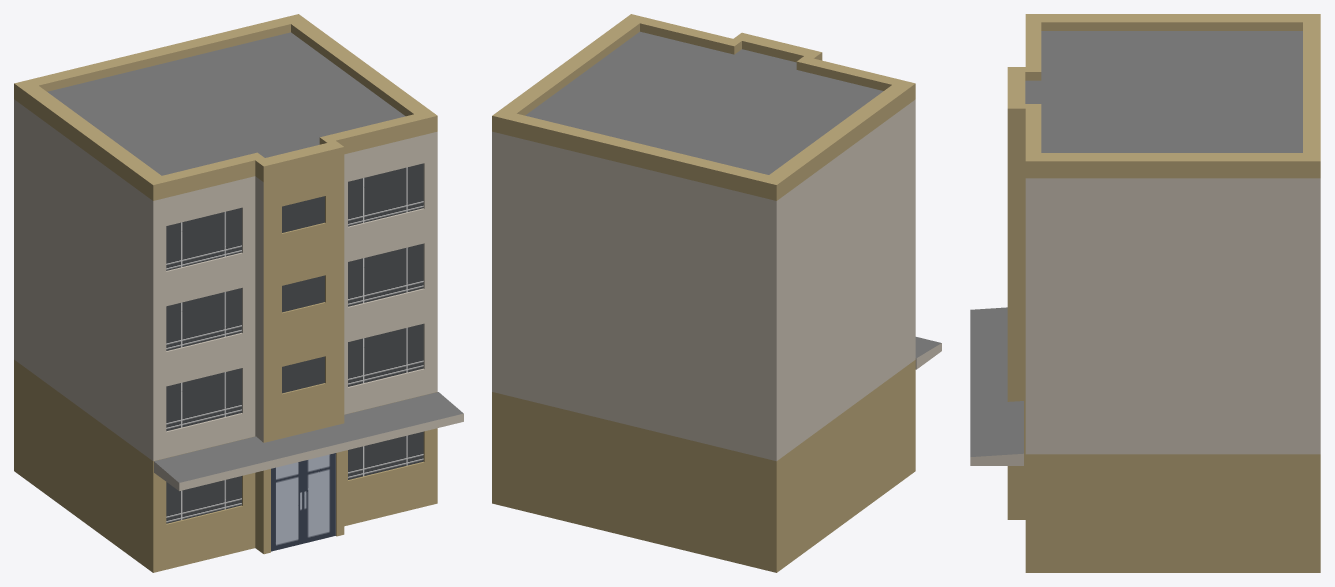
The model's file is building-sky-small-color02.glb.
The picture shows the model from 3 angles, left to right: view 1: azimuth 30°, elevation 25°; view 2: azimuth 150°, elevation 25°; view 3: azimuth 270°, elevation 25°; orthographic projection. The views are drawn at different scales.
Visible parts, largest first — view 1: model; view 2: model; view 3: model.
Boxes of the visible parts, box(x1,y1,x2,y2) form: model: box(14, 14, 463, 572); model: box(492, 14, 941, 572); model: box(970, 14, 1320, 572).
Bounding box in the file's own units: 13 × 16.93 × 13.07.
1 material, 1 textured.
